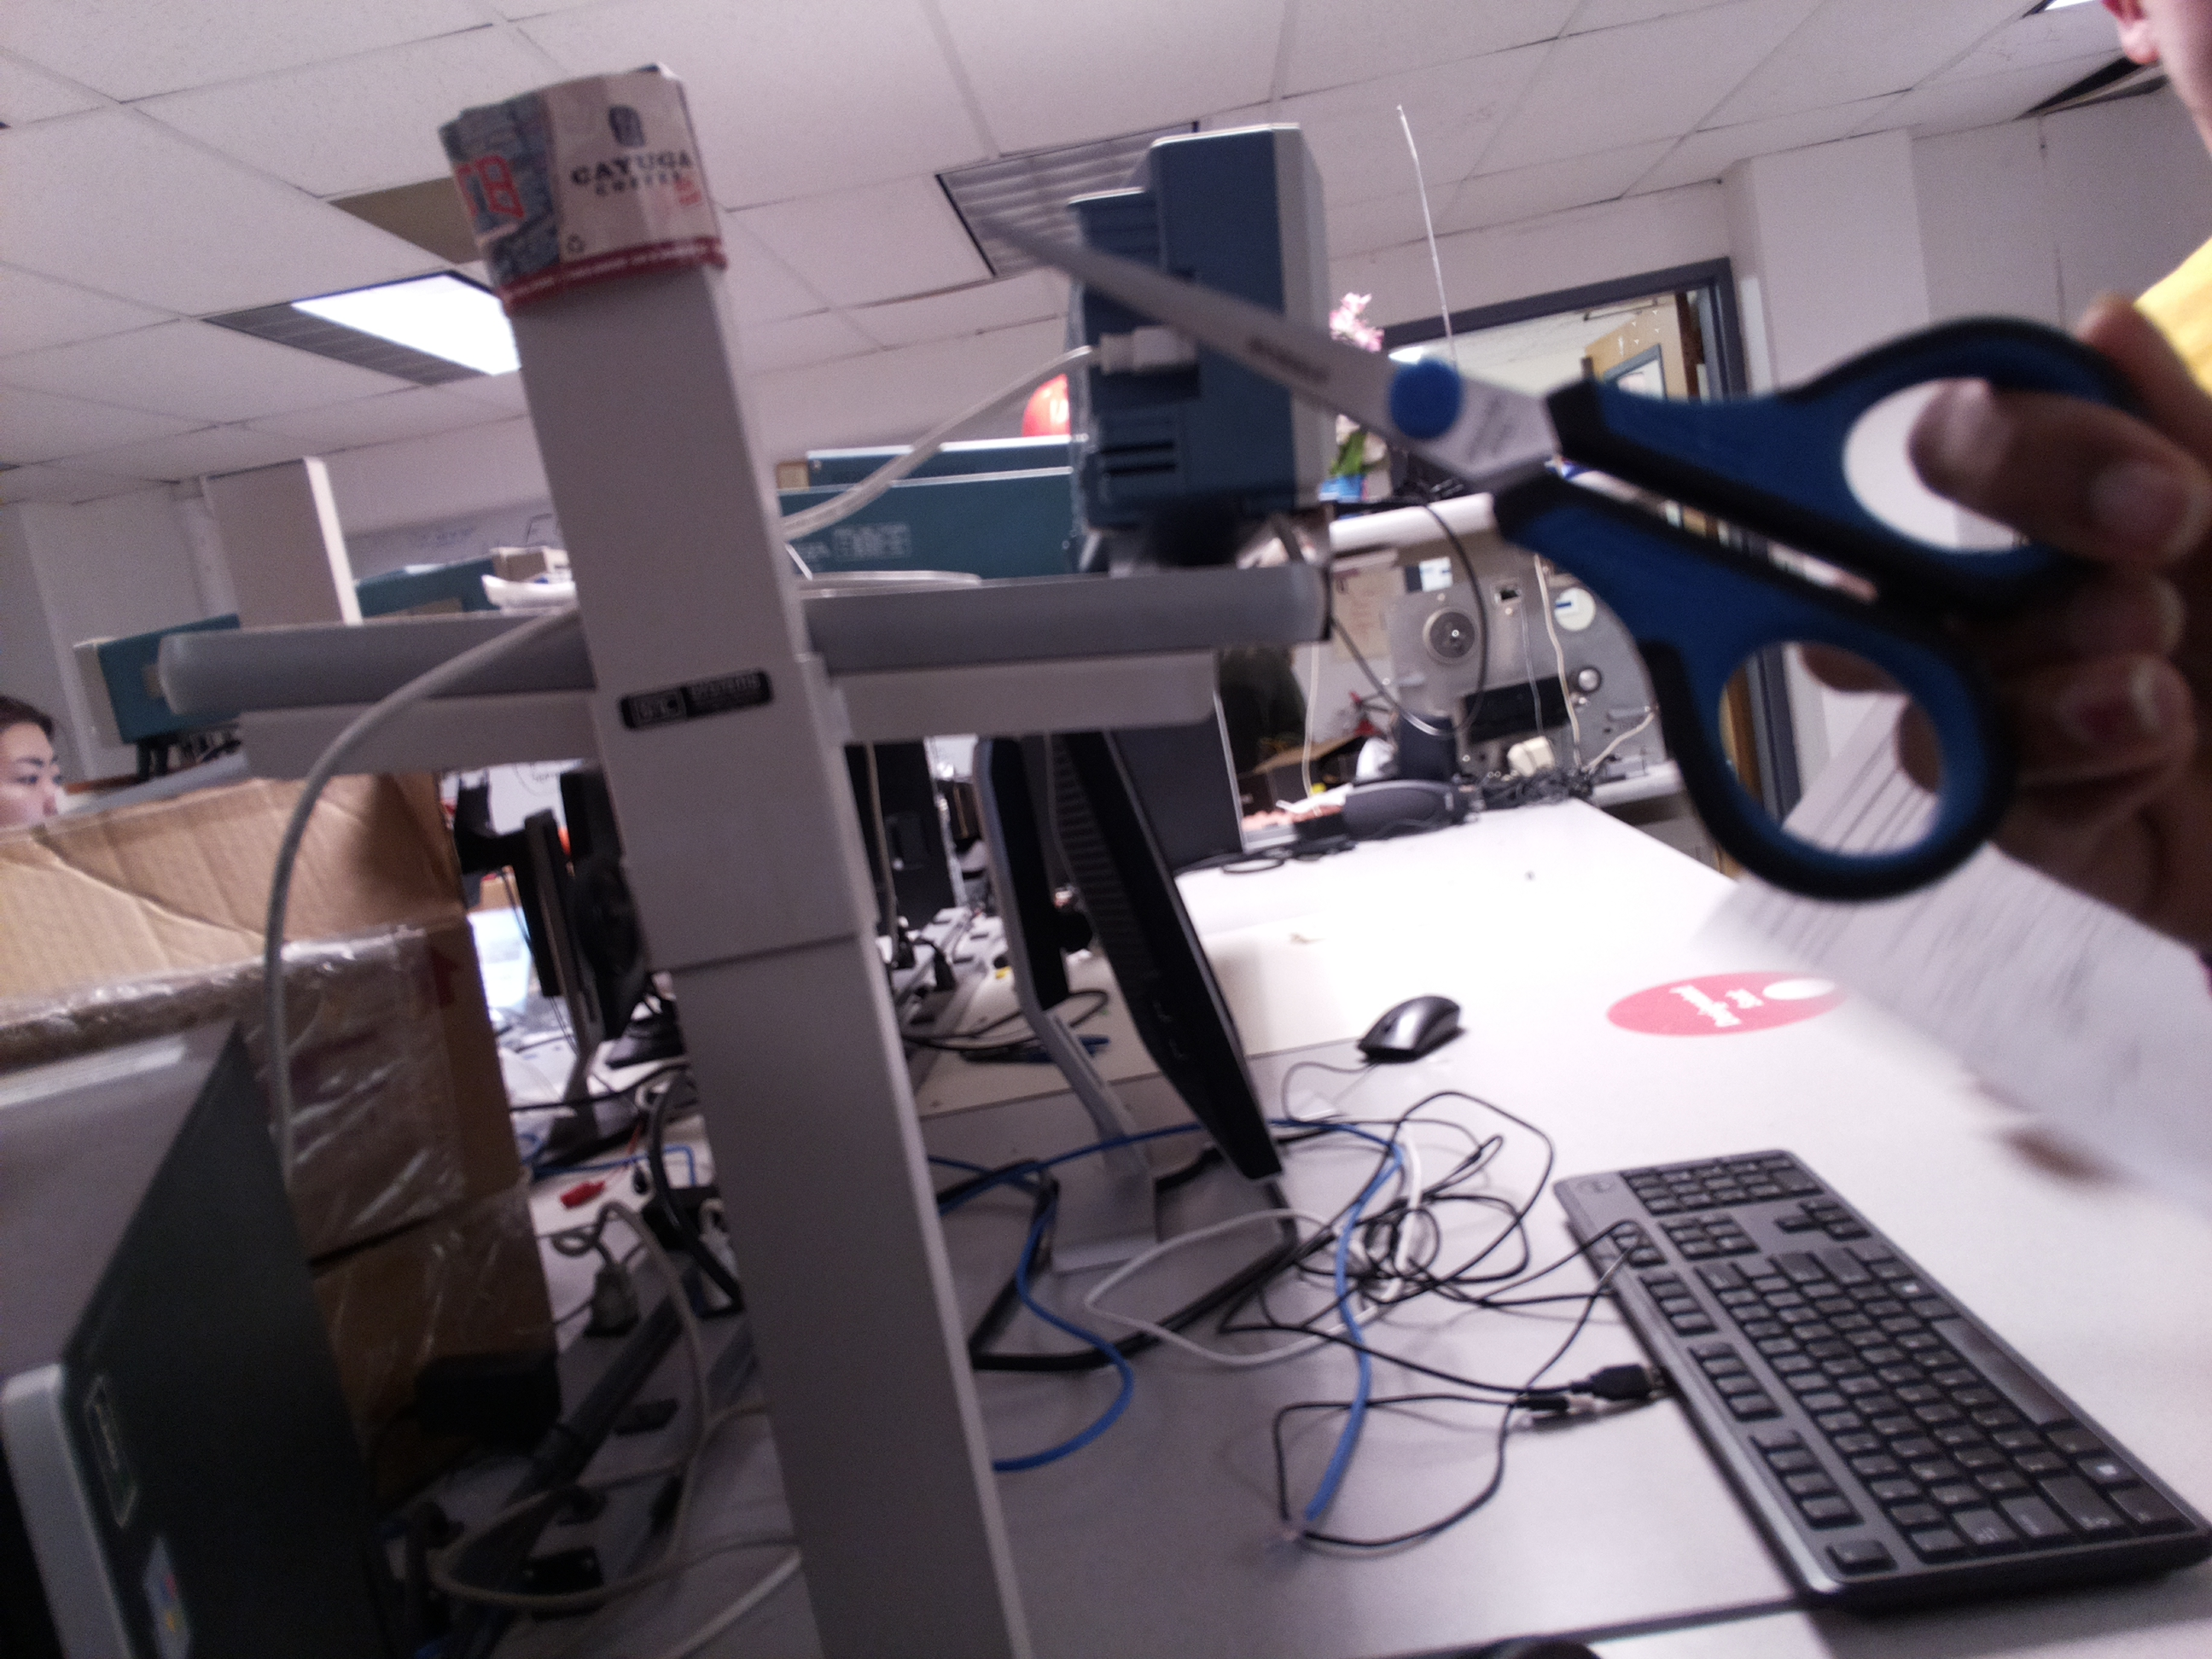notbird: (944, 200, 2094, 904), (1780, 289, 2202, 1007)
